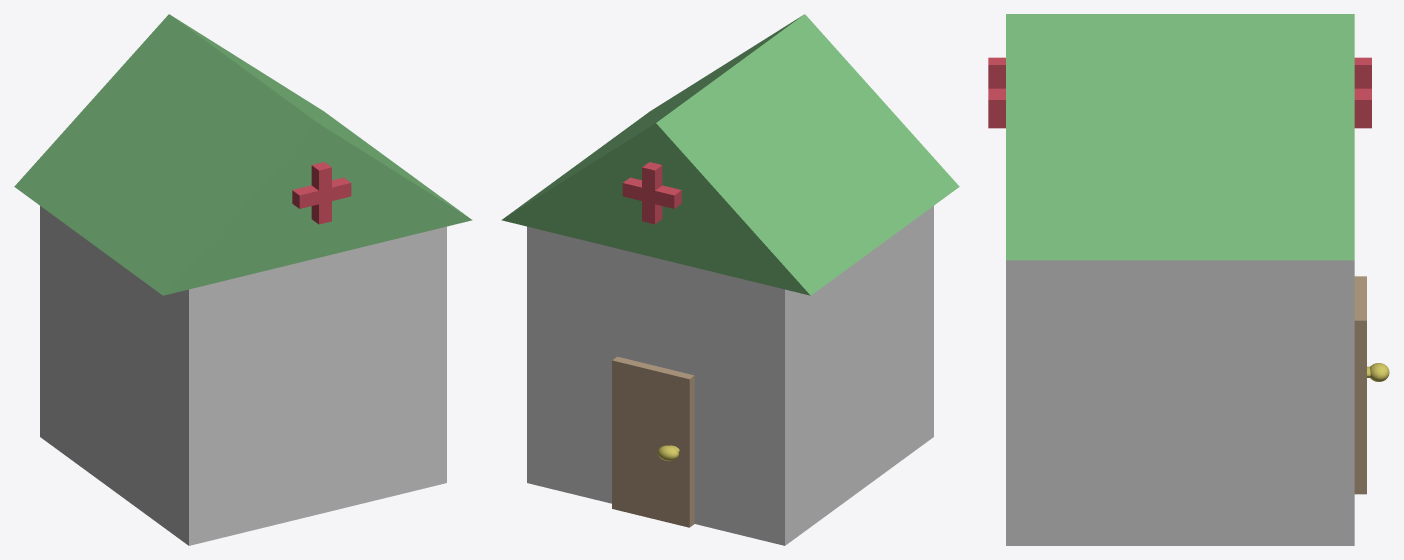
File: Hospital.glb
3 views of the same model, side by side, from view 1: azimuth 30°, elevation 25°; view 2: azimuth 150°, elevation 25°; view 3: azimuth 270°, elevation 25° (orthographic). The views are drawn at different scales.
Visible parts, largest first — view 1: Mesh_Mesh_head_geo.001_lambert2SG.001; view 2: Mesh_Mesh_head_geo.001_lambert2SG.001; view 3: Mesh_Mesh_head_geo.001_lambert2SG.001.
Part boxes in pixels (x1=…): Mesh_Mesh_head_geo.001_lambert2SG.001: x1=14, y1=14, x2=472, y2=545; Mesh_Mesh_head_geo.001_lambert2SG.001: x1=501, y1=14, x2=959, y2=545; Mesh_Mesh_head_geo.001_lambert2SG.001: x1=988, y1=14, x2=1389, y2=545.
Size of the model in its own units: 24 by 29 by 23.
